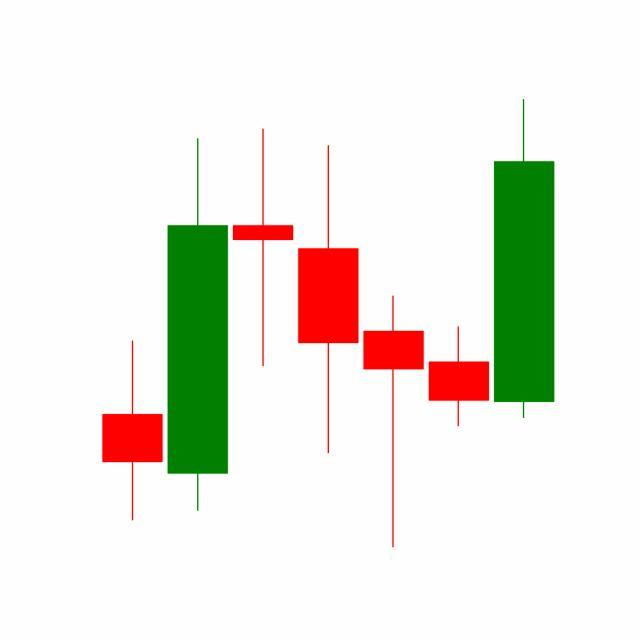Three Line Strike: (294, 99, 555, 549)
